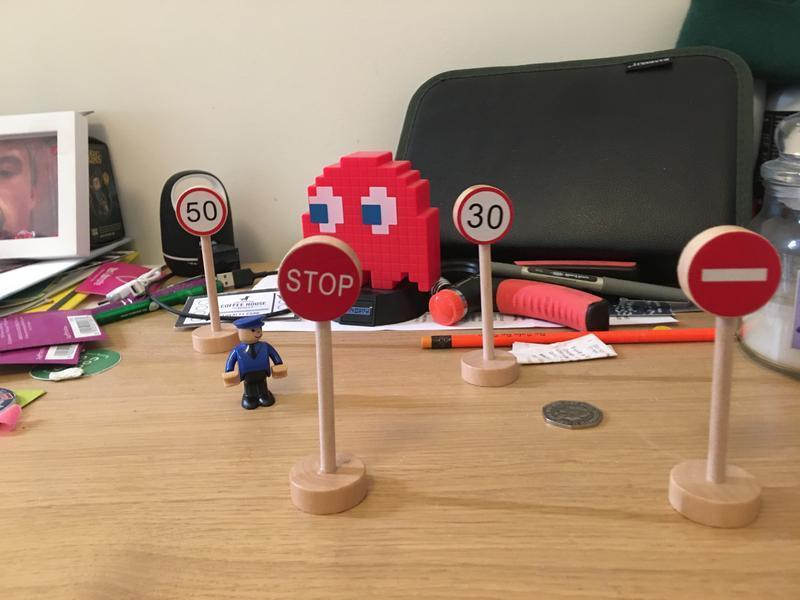Traffic_Sign_30: (456, 188, 513, 243)
Traffic_Sign_50: (176, 190, 227, 235)
Traffic_Sign_No_Entry: (686, 229, 782, 319)
Traffic_Sign_Stop: (278, 242, 358, 322)
person: (221, 314, 291, 414)
